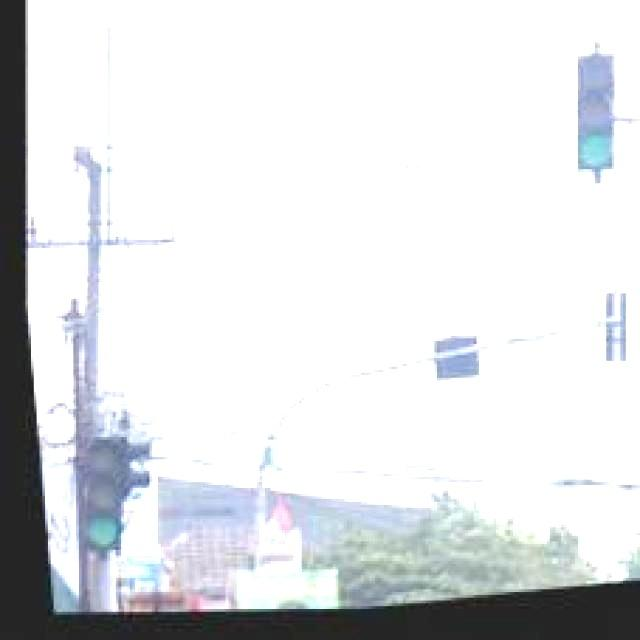Green: (561, 61, 623, 188), (62, 437, 124, 555)
